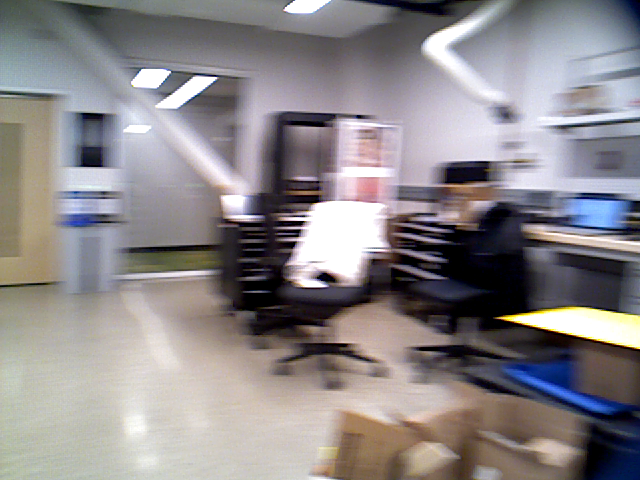painting1: (62, 114, 123, 173)
